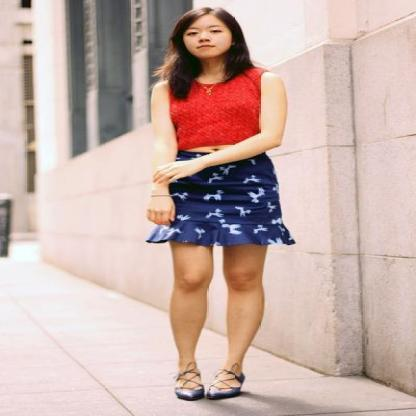shirt: (168, 67, 266, 151)
shoe: (176, 374, 252, 403)
skirt: (146, 149, 294, 257)
